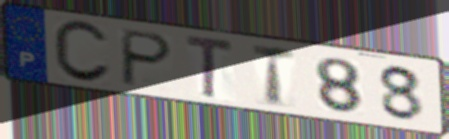8: (311, 56, 368, 115), (376, 63, 429, 123)
C: (50, 19, 115, 86)
P: (118, 27, 177, 89)
T: (183, 32, 237, 102), (250, 42, 297, 109)
